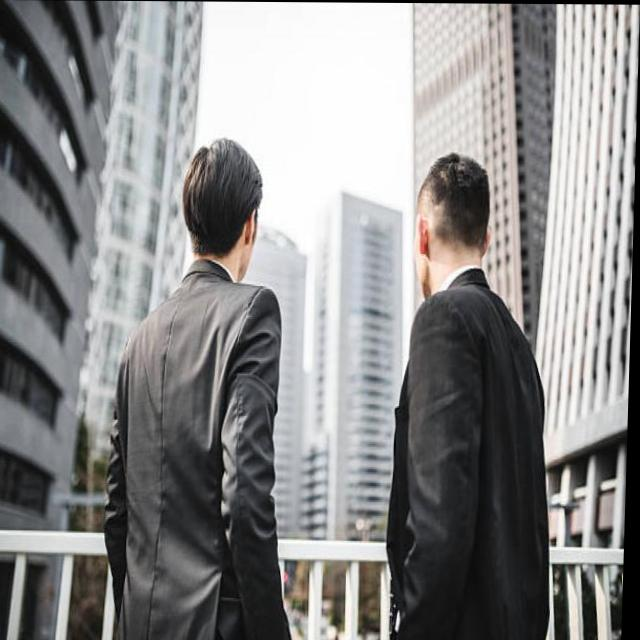no helmet: (175, 120, 283, 315), (399, 151, 510, 301)
